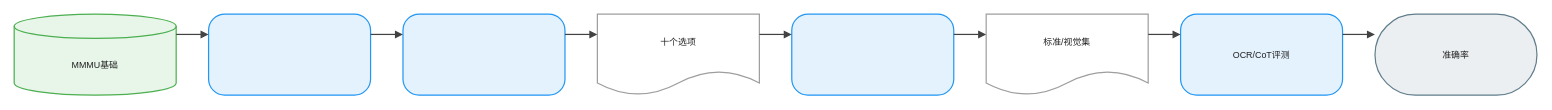
Image size: 1552x110. Some labels were removed from this diagram. The shapes that lost their labels are listed below. From the top down, each one's centre as x and y in pixels, then its label:
At point (289, 54): "纯文本过滤".
At point (483, 54): "选项扩充".
At point (872, 54): "仅视觉设置".
